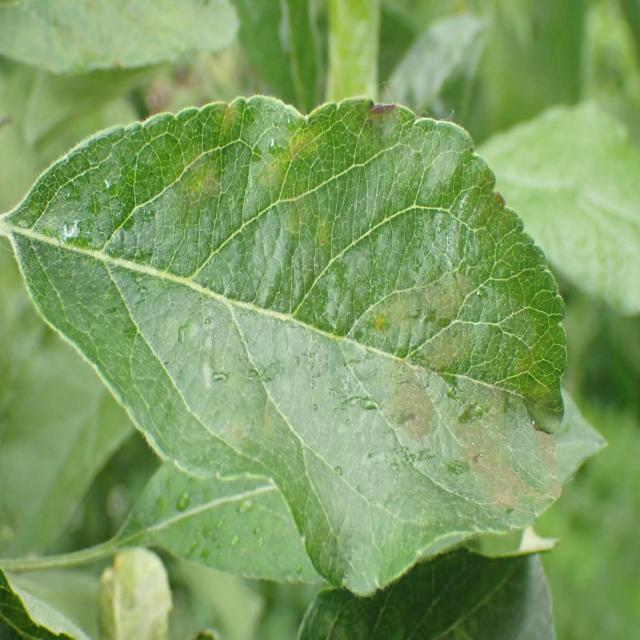scab: (46, 90, 579, 539)
